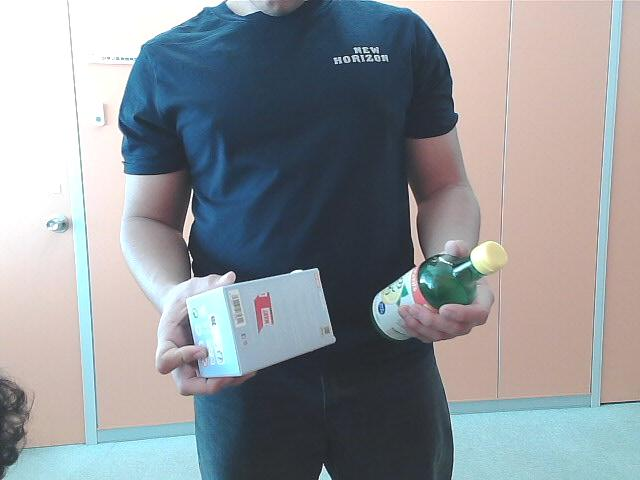Blind_box: (186, 261, 340, 381)
Lemon_sapporo: (370, 237, 510, 355)
